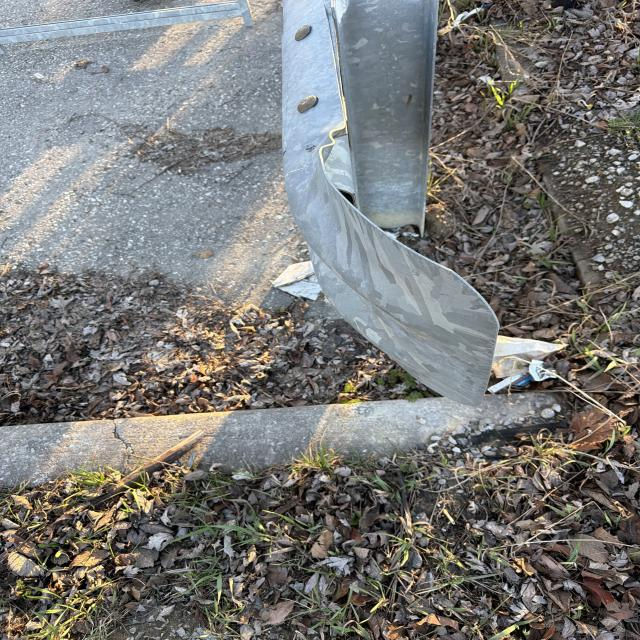Guard rail: (270, 2, 490, 382)
